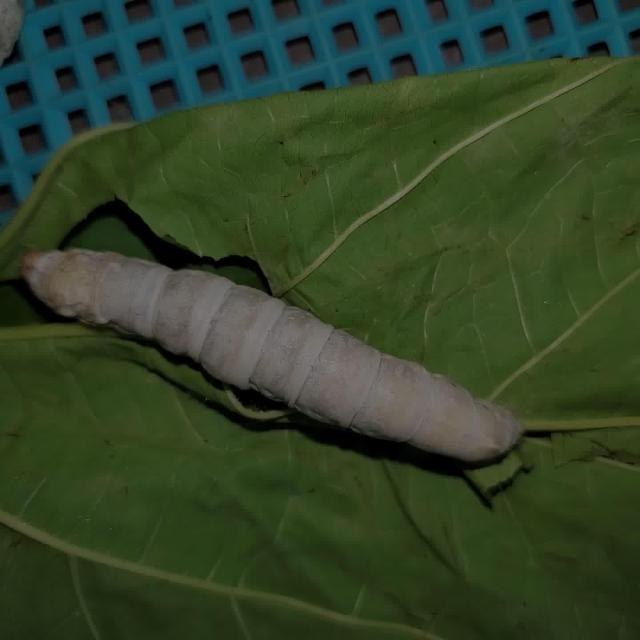Grasserie: (14, 221, 530, 485)
